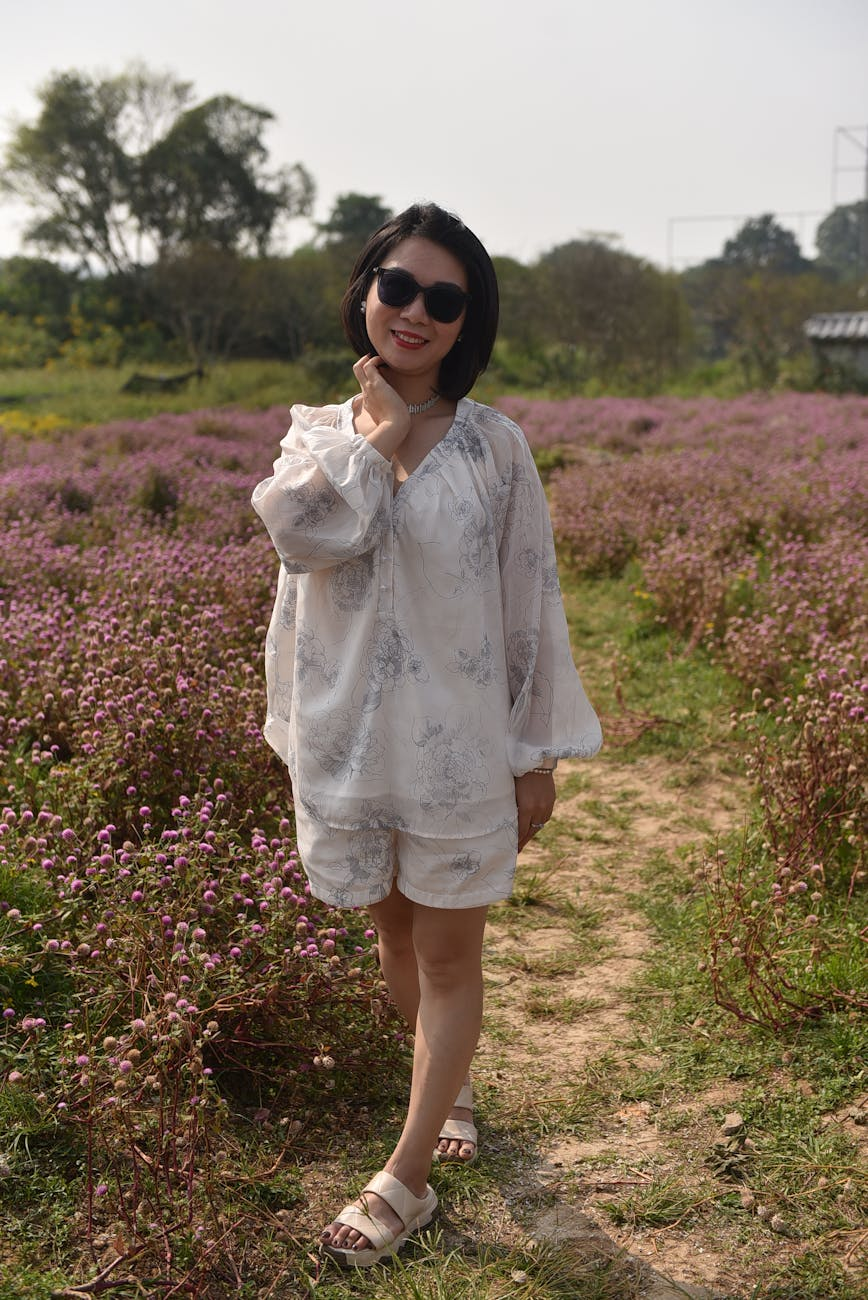opened_foot: (315, 1178, 442, 1264), (424, 1108, 488, 1167)
shorts: (258, 779, 554, 924)
